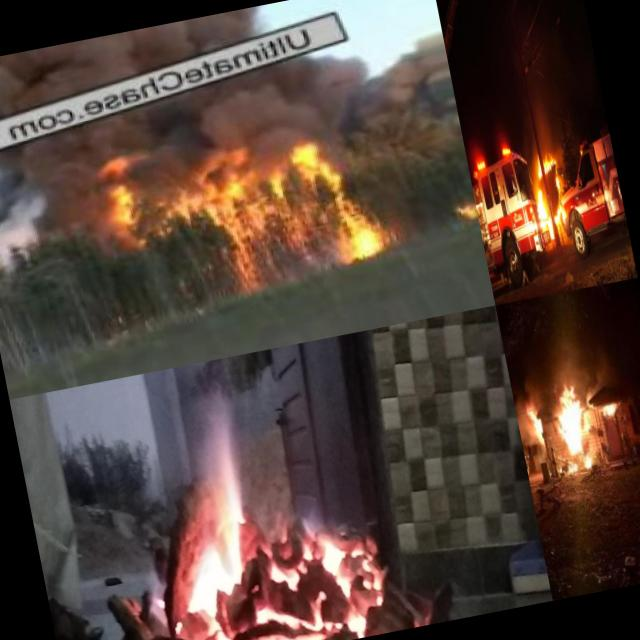fire: (152, 410, 347, 640), (186, 121, 390, 296), (89, 150, 158, 251), (542, 372, 598, 461), (526, 144, 573, 238), (446, 186, 480, 230), (524, 399, 548, 449), (562, 456, 598, 484), (600, 384, 624, 424)
smoke: (0, 147, 79, 285)
